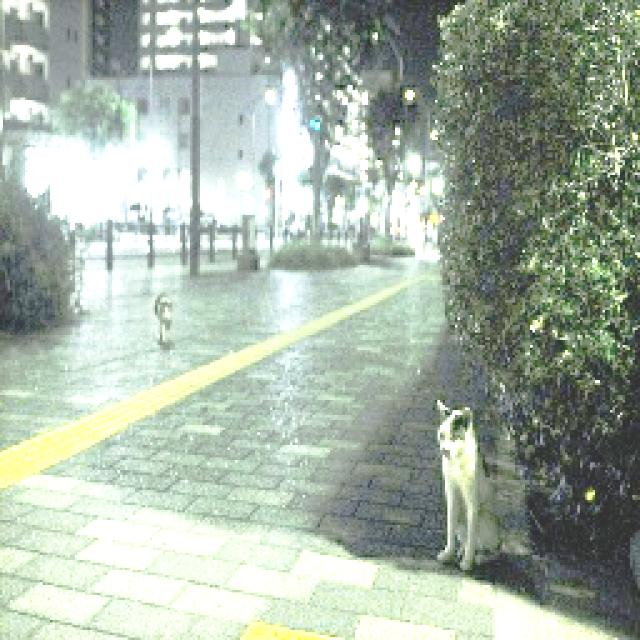cat: (428, 395, 520, 574), (154, 290, 176, 343)
